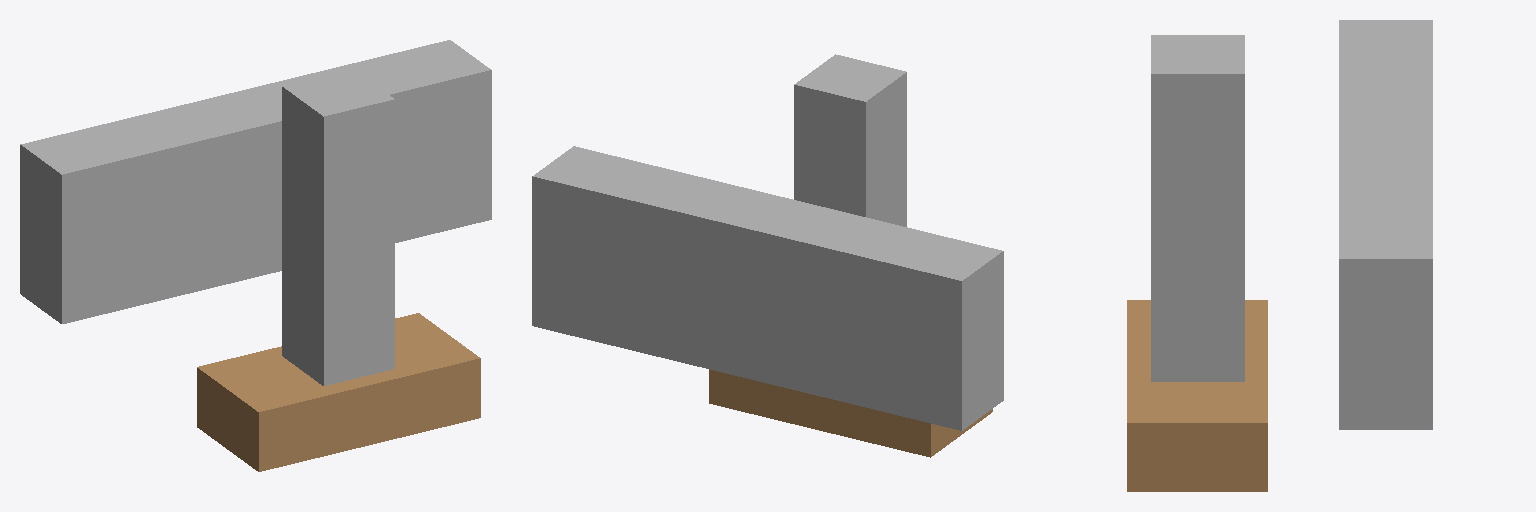
URDF robot description (rcetiframe):
<?xml version="1.0"?>
<robot name="rcetiframe">

    <material name="wood">
    <color rgba="0.76 0.6 0.42 1"/>
    </material>

    <material name="metal">
        <color rgba="0.75 0.75 0.75 1"/>
    </material>

    <!-- Base Link (Fixed) -->
    <link name="base_link">
        <visual>
            <geometry>
                <box size="0.31 0.15 0.08"/>
            </geometry>
            <material name="wood"/>
        </visual>
    </link>

    <!-- Z-Axis Actuator (Vertical) -->
    <link name="z_actuator_link">
        <visual>
            <geometry>
                <box size="0.1 0.1 0.4"/>  <!-- Slim vertical actuator -->
            </geometry>
            <material name="metal"/>
        </visual>
    </link>

    <!-- Fixed Joint: Base to Vertical (Z) Actuator -->
    <joint name="base_to_z_actuator" type="fixed">
        <parent link="base_link"/>
        <child link="z_actuator_link"/>
        <origin xyz="0 0 0.2"/>  <!-- Placed above the base -->
    </joint>

    <!-- Z Moving Link (Moves Vertically) -->
    <link name="z_moving_link">
        <visual>
            <geometry>
                <box size="0.1 0.1 0.4"/>
            </geometry>
            <material name="metal"/>
        </visual>
    </link>

    <!-- Prismatic Joint: Vertical Movement (Z-Axis) -->
    <joint name="z_actuator_to_z_moving" type="prismatic">
        <parent link="z_actuator_link"/>
        <child link="z_moving_link"/>
        <origin xyz="0 0 0"/>
        <axis xyz="0 0 1"/>  <!-- Moves up and down along Z -->
        <limit effort="100.0" lower="0.0" upper="0.4" velocity="0.5"/>
    </joint>

    <!-- X-Axis Actuator (Horizontal) -->
    <link name="x_actuator_link">
        <visual>
            <geometry>
                <box size="0.6 0.1 0.2"/>  <!-- Wider horizontal actuator -->
            </geometry>
            <material name="metal"/>
        </visual>
    </link>

    <!-- Fixed Joint: Attach Horizontal (X) Actuator to the moving part of Z -->
    <joint name="z_moving_to_x_actuator" type="fixed">
        <parent link="z_moving_link"/>
        <child link="x_actuator_link"/>
        <origin xyz="0 0.2 0"/>  <!-- Positioned properly relative to the Z moving link -->
    </joint>

    <!-- X Moving Link (Moves Horizontally) -->
    <link name="x_moving_link">
        <visual>
            <geometry>
                <box size="0.6 0.1 0.2"/>
            </geometry>
            <material name="metal"/>
        </visual>
    </link>

    <!-- Prismatic Joint: X Moves Along X-Axis -->
    <joint name="x_actuator_to_x_moving" type="prismatic">
        <parent link="x_actuator_link"/>
        <child link="x_moving_link"/>
        <origin xyz="0 0 0"/>
        <axis xyz="1 0 0"/>  <!-- Moves left-right along X -->
        <limit effort="100.0" lower="0.0" upper="0.3" velocity="0.5"/>
    </joint>

    <!-- Pitch Actuator (Resting on the moving part of X actuator) -->
    <link name="pitch_actuator_link">
        <visual>
            <geometry>
                <box size="0.3 0.1 0.1"/>  <!-- A smaller piece for pitch movement -->
            </geometry>
            <material name="metal"/>
        </visual>
    </link>

    <!-- Joint: Pitch Actuator attached to Moving X -->
    <joint name="x_to_pitch_actuator" type="revolute">
        <parent link="x_moving_link"/>
        <child link="pitch_actuator_link"/>
        <origin xyz="0 0 0"/>  <!-- Aligned with moving X -->
        <axis xyz="0 1 0"/>  <!-- Rotation along Y-axis (Pitch) -->
        <limit effort="50.0" lower="-1.57" upper="1.57" velocity="1.0"/>  <!-- -90 to +90 degrees -->
    </joint>

</robot>

--- Facts derived from the render (not from the file) ---
Views: 3 orthographic renders of the robot side by side, from view 1: azimuth 30°, elevation 25°; view 2: azimuth 150°, elevation 25°; view 3: azimuth 270°, elevation 25°.
Model rcetiframe with 6 links and 5 joints (1 revolute, 2 prismatic, 2 fixed), rooted at base_link, posed all joints at 0.
Visible links, largest first — view 1: x_actuator_link, z_actuator_link, base_link; view 2: x_actuator_link, z_actuator_link, base_link, pitch_actuator_link; view 3: x_actuator_link, z_actuator_link, base_link.
Boxes of the visible links, x1=… form: x_actuator_link: x1=20, y1=40, x2=491, y2=323; z_actuator_link: x1=282, y1=69, x2=394, y2=385; base_link: x1=197, y1=313, x2=480, y2=471; x_actuator_link: x1=532, y1=146, x2=1003, y2=430; z_actuator_link: x1=794, y1=54, x2=906, y2=226; base_link: x1=709, y1=369, x2=992, y2=457; pitch_actuator_link: x1=640, y1=240, x2=854, y2=366; x_actuator_link: x1=1339, y1=20, x2=1432, y2=429; z_actuator_link: x1=1151, y1=35, x2=1244, y2=381; base_link: x1=1127, y1=300, x2=1267, y2=491.
Size in the robot's own frame: 0.6 by 0.325 by 0.44 metres.
Geometry: primitives only (box / cylinder / sphere), no mesh files.